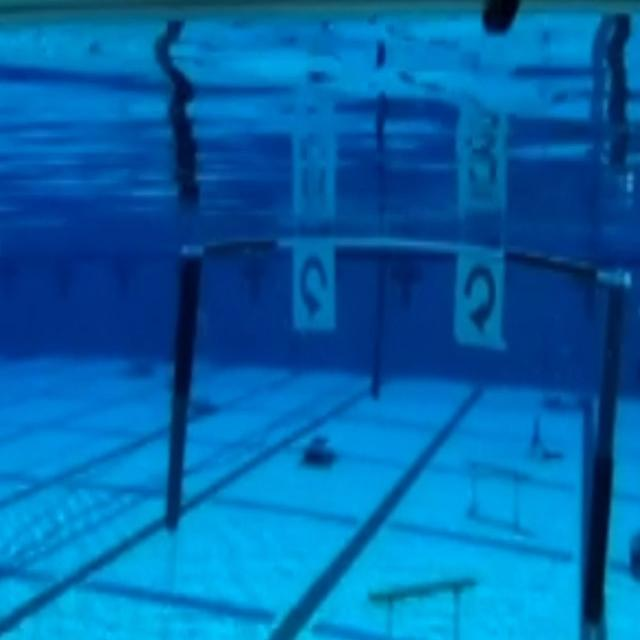Gate: (155, 224, 640, 569)
